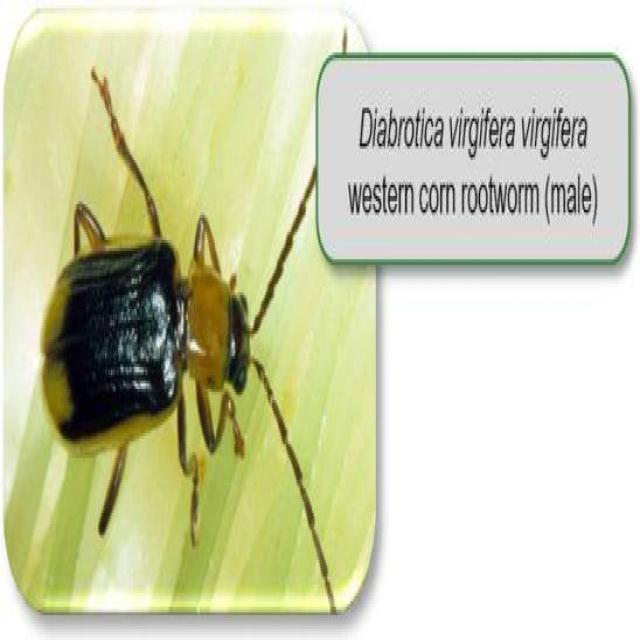trips: (41, 28, 350, 612)
